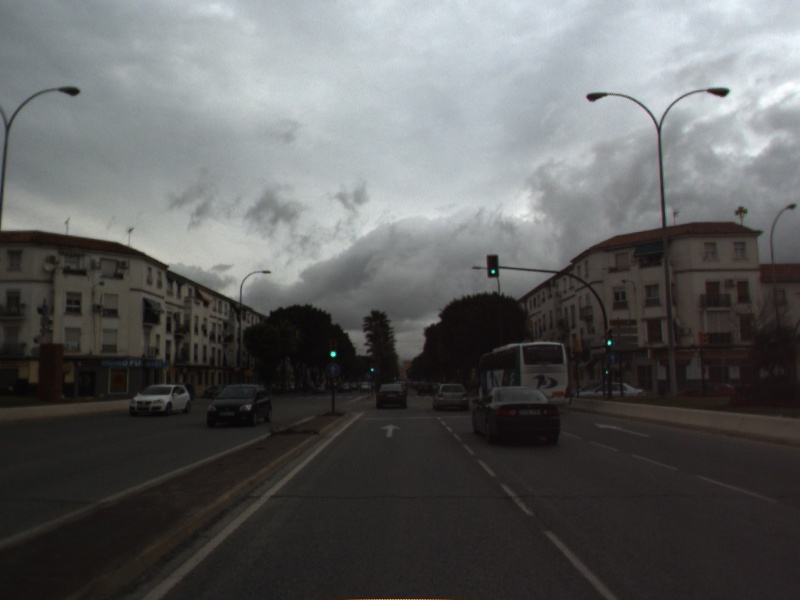STRAIGHT: (592, 420, 651, 439), (378, 422, 404, 439)
